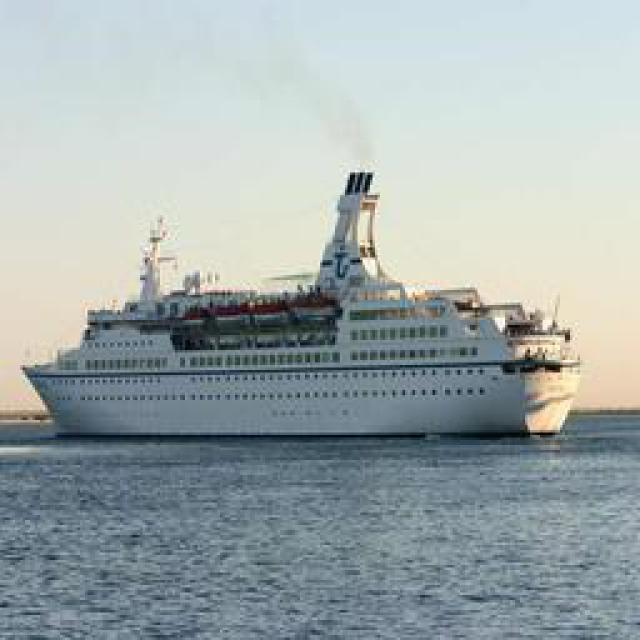Ship: (25, 164, 583, 444)
